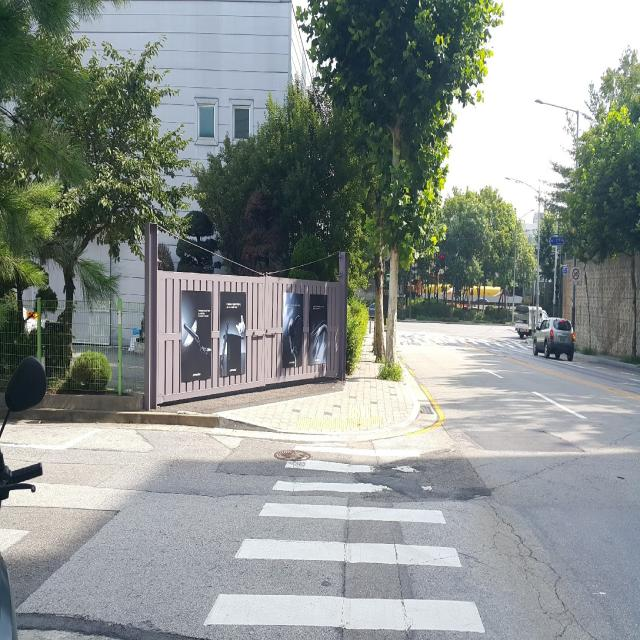횡단보도: (200, 440, 488, 638)
